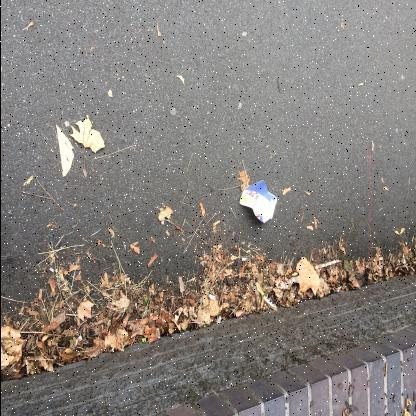paper: (238, 180, 276, 224)
